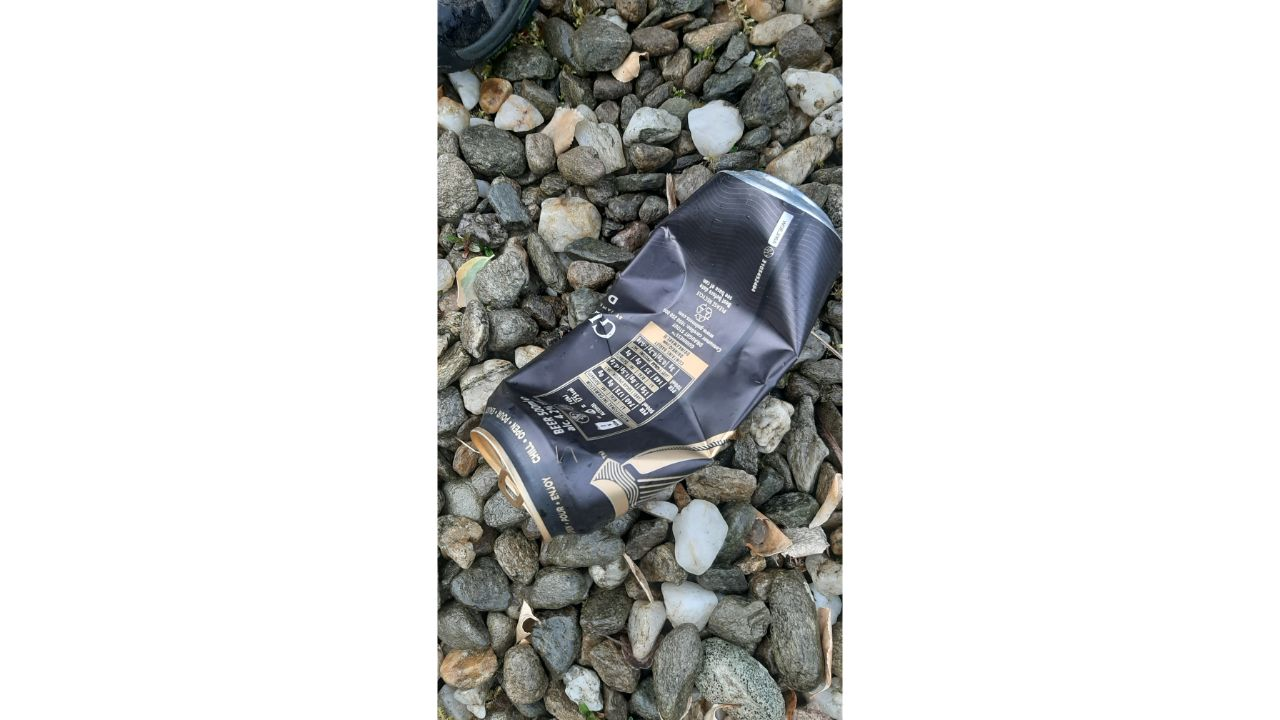Can: (471, 167, 841, 540)
